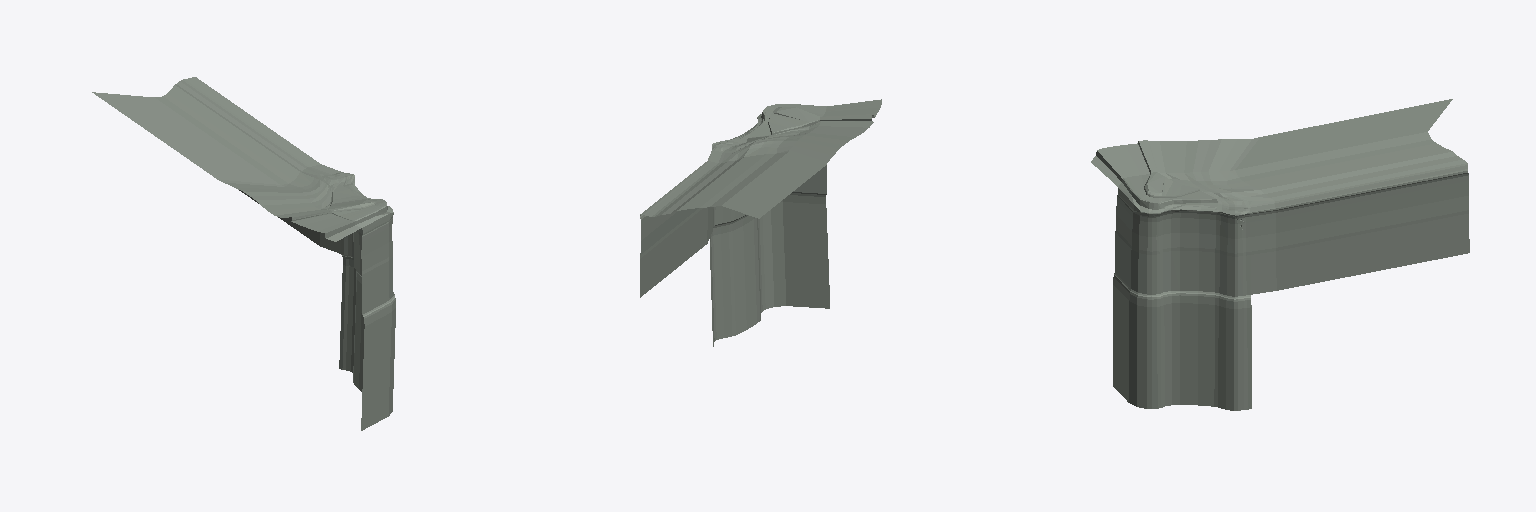
Rendered from Cliff.obj.
The picture shows the model from 3 angles: view 1: azimuth 30°, elevation 25°; view 2: azimuth 150°, elevation 25°; view 3: azimuth 270°, elevation 25°; orthographic projection.
Visible parts, largest first — view 1: Cliff; view 2: Cliff; view 3: Cliff.
Boxes of the visible parts, box(x1,y1,x2,y2) form: Cliff: box(92, 77, 395, 430); Cliff: box(640, 99, 881, 346); Cliff: box(1091, 99, 1469, 410).
Bounding box in the file's own units: 171 × 252 × 362.